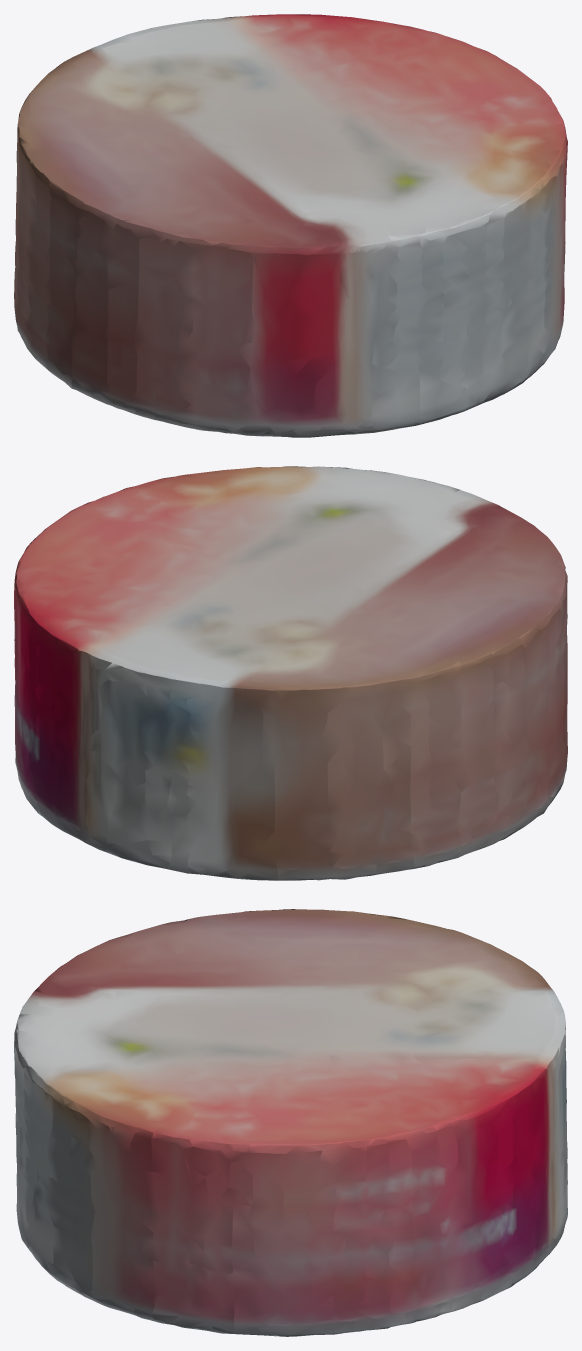
The model's file is 0008_mask_009_yogurt_cup.glb.
3 renders of one model, top to bottom at view 1: azimuth 30°, elevation 25°; view 2: azimuth 150°, elevation 25°; view 3: azimuth 270°, elevation 25°, orthographic.
Parts seen in each view (by area): view 1: mask_009_object; view 2: mask_009_object; view 3: mask_009_object.
Boxes of the visible parts, x1=… form: mask_009_object: x1=14, y1=14, x2=567, y2=437; mask_009_object: x1=14, y1=466, x2=567, y2=880; mask_009_object: x1=14, y1=909, x2=567, y2=1336.
Size of the model in its own units: 0.1027 by 0.0412 by 0.1027.
